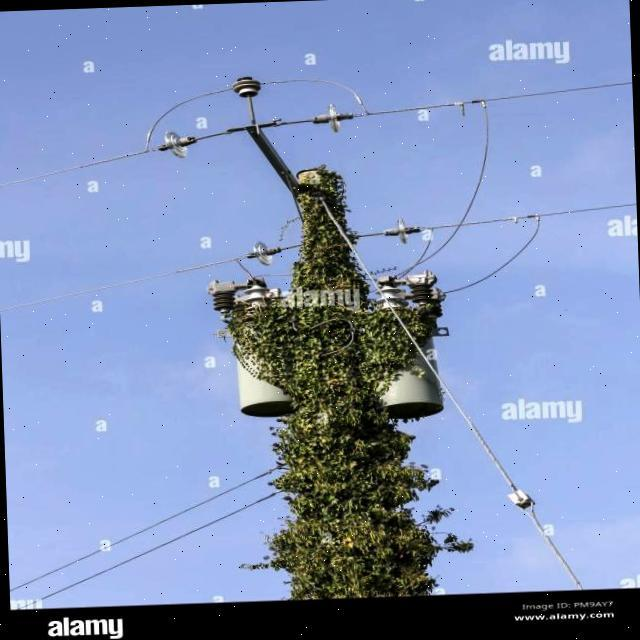critical vegetation: (189, 104, 496, 598)
